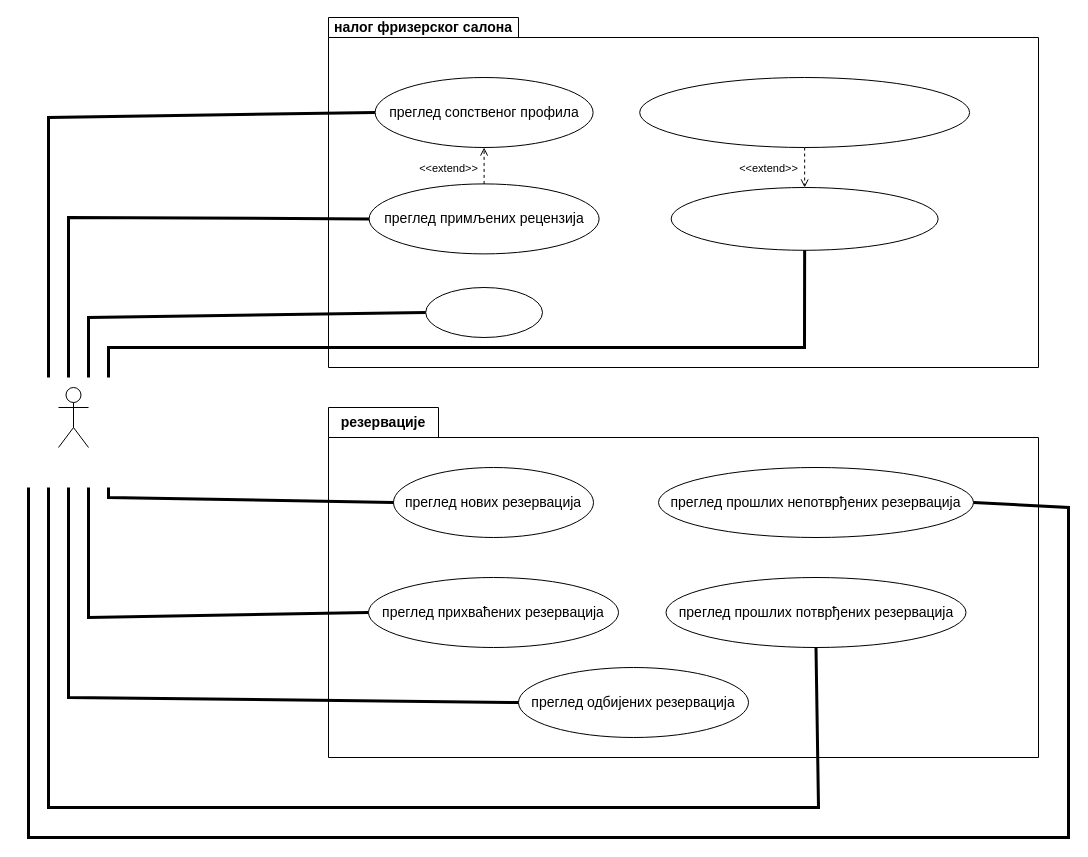
This 1088x857 diagram has some shape labels left out. The shapes that lost their labels are listed below. From the top down, each one's centre as x and y in pixels, then its label:
the point at 804,112: повезивање са Google налогом ( Google Sign-In)
the point at 804,218: ажурирање сопственог профила
the point at 483,312: одјава
the point at 73,417: фризерски салон
